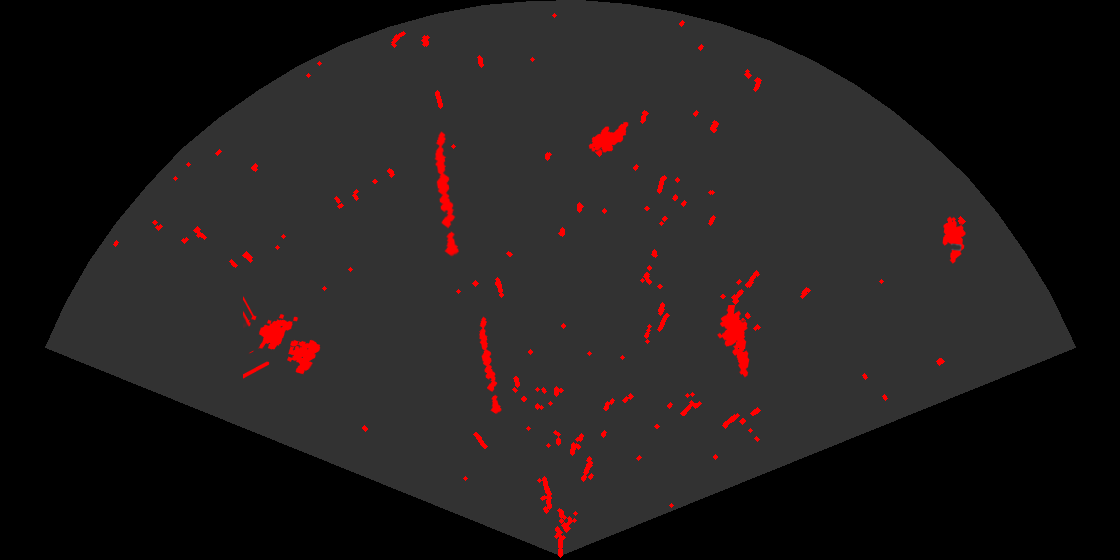AUV: (587, 120, 630, 154), (941, 215, 967, 265)
cage: (243, 295, 322, 380)
chain: (433, 130, 461, 259), (477, 315, 503, 416)
frogman: (716, 305, 751, 379)
